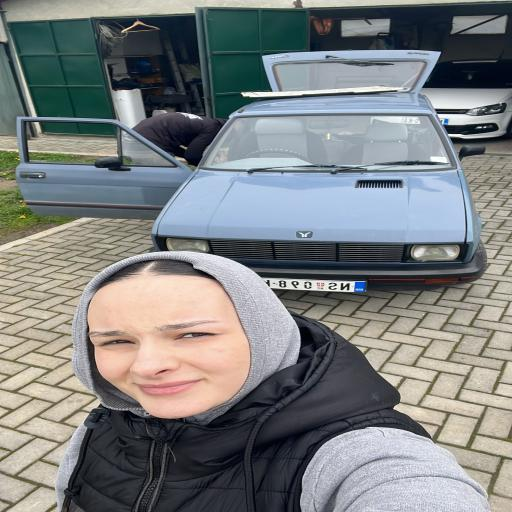marija: (85, 274, 254, 420)
